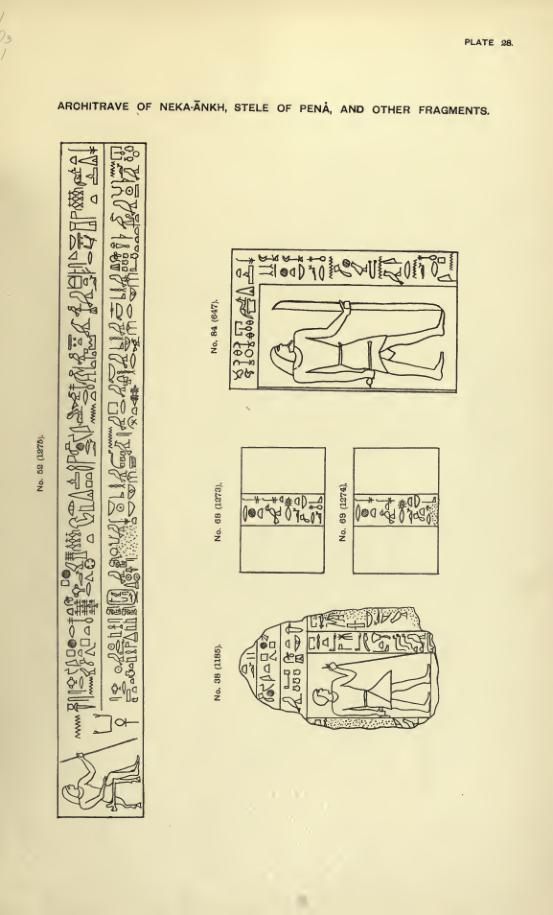circle: (104, 588, 141, 605)
